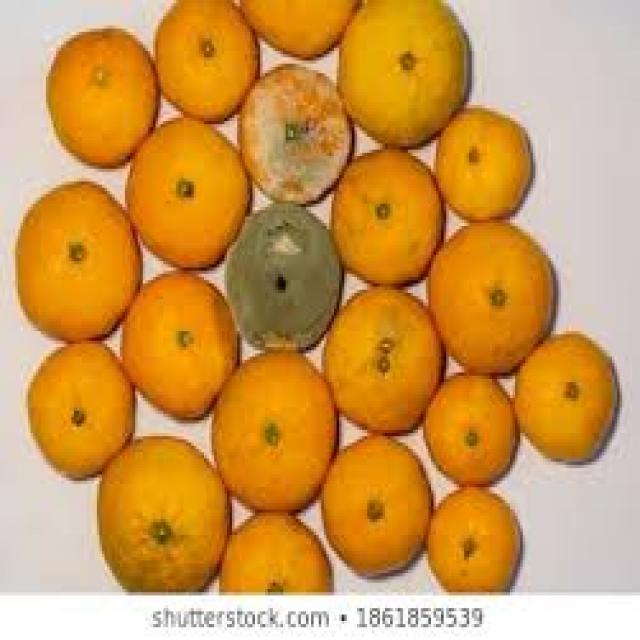organic waste: (209, 347, 339, 513), (94, 433, 230, 589), (15, 175, 138, 338), (428, 216, 554, 372), (217, 194, 339, 350), (321, 283, 446, 433), (125, 112, 247, 264), (337, 0, 469, 140), (120, 264, 234, 417), (237, 57, 349, 201), (319, 433, 433, 573), (41, 26, 155, 162), (329, 143, 441, 280), (26, 338, 135, 474), (512, 328, 614, 462), (153, 0, 255, 115), (421, 369, 515, 484), (434, 105, 530, 217), (426, 481, 518, 589), (217, 506, 334, 589), (234, 0, 369, 57)
